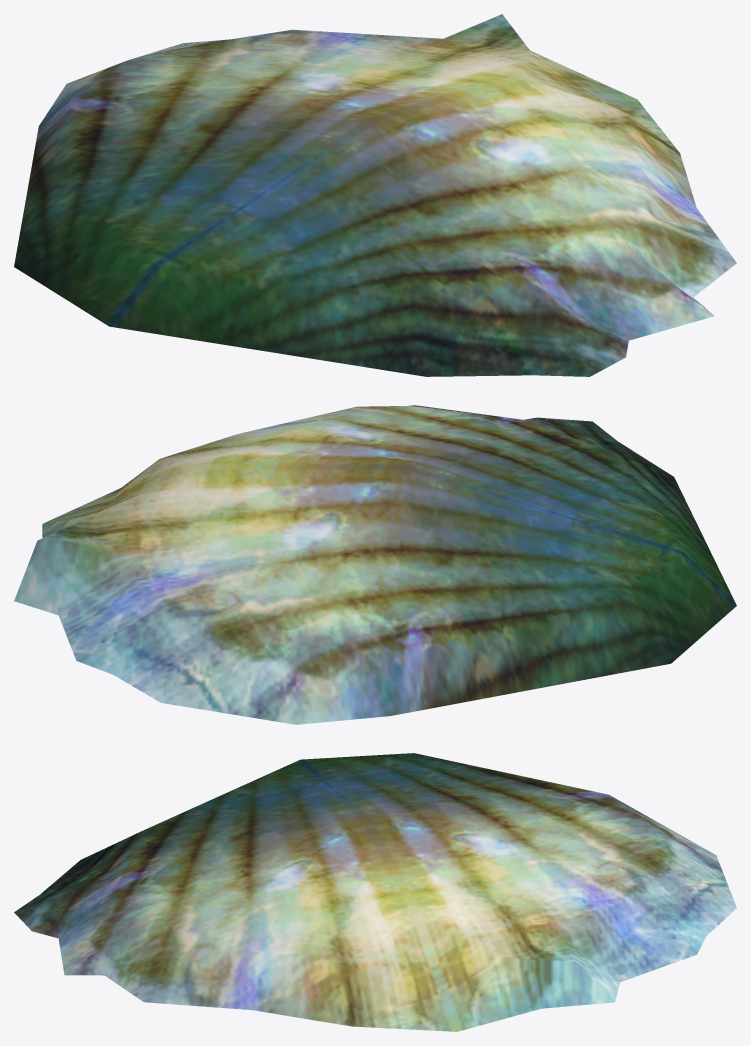
The model's file is environment_common_seabeike_002_a.FBX.
3 renders of one model, top to bottom at view 1: azimuth 30°, elevation 25°; view 2: azimuth 150°, elevation 25°; view 3: azimuth 270°, elevation 25°, orthographic. The views are drawn at different scales.
Parts seen in each view (by area): view 1: environment_common_seabeike_002_a; view 2: environment_common_seabeike_002_a; view 3: environment_common_seabeike_002_a.
Part boxes in pixels (bbox=[...]): environment_common_seabeike_002_a: bbox=[14, 14, 736, 376]; environment_common_seabeike_002_a: bbox=[14, 405, 736, 724]; environment_common_seabeike_002_a: bbox=[14, 753, 736, 1031].
Bounding box in the file's own units: 190 × 30.68 × 221.
